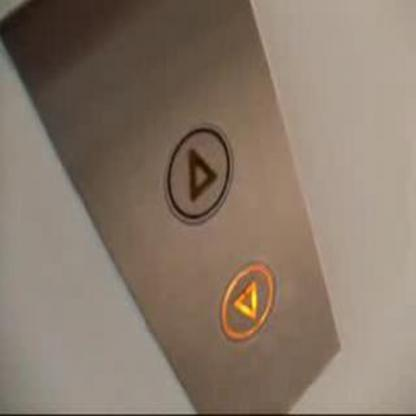down: (218, 259, 277, 342)
up: (161, 121, 234, 227)
